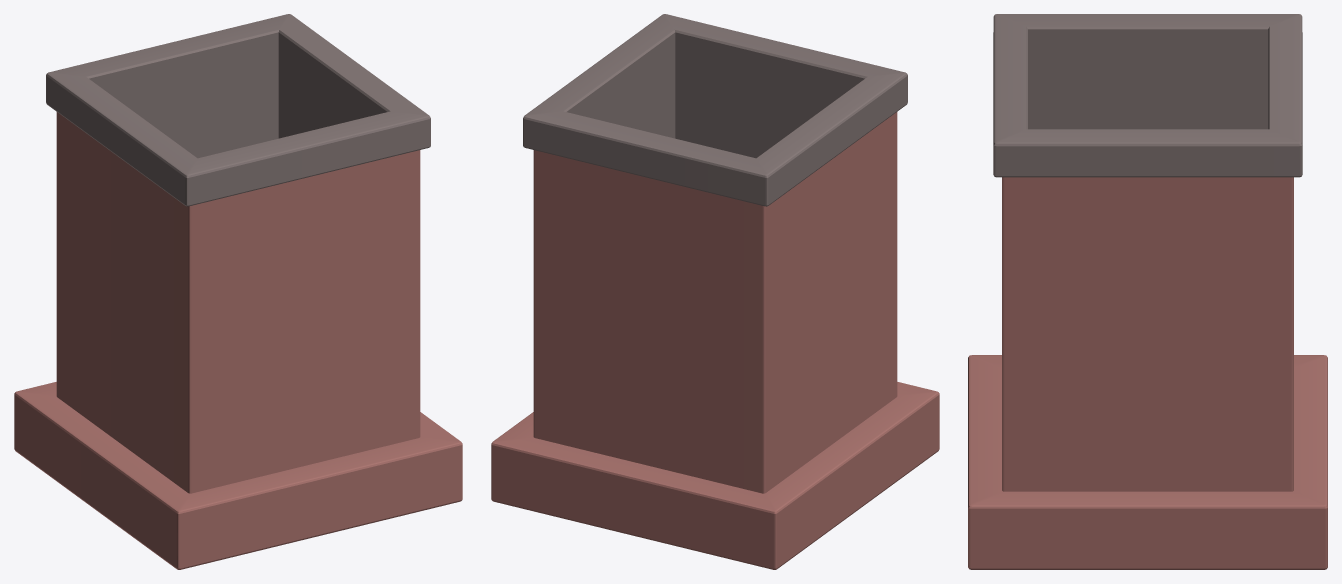
File: RECTANGULAR_PEN_HOLDER.fbx
The picture shows the model from 3 angles, left to right: view 1: azimuth 30°, elevation 25°; view 2: azimuth 150°, elevation 25°; view 3: azimuth 270°, elevation 25°; orthographic projection. The views are drawn at different scales.
Visible parts, largest first — view 1: Rectangular_Pen_holder_DOWN, Rectangular_Pen_holder_UP; view 2: Rectangular_Pen_holder_DOWN, Rectangular_Pen_holder_UP; view 3: Rectangular_Pen_holder_DOWN, Rectangular_Pen_holder_UP.
Part boxes in pixels (x1,y1,x2,y2): Rectangular_Pen_holder_DOWN: (14, 112, 462, 569); Rectangular_Pen_holder_UP: (46, 14, 430, 206); Rectangular_Pen_holder_DOWN: (491, 112, 939, 569); Rectangular_Pen_holder_UP: (523, 14, 907, 206); Rectangular_Pen_holder_DOWN: (968, 177, 1327, 569); Rectangular_Pen_holder_UP: (993, 14, 1302, 177).
Size of the model in its own units: 0.2162 by 0.2764 by 0.2162.
